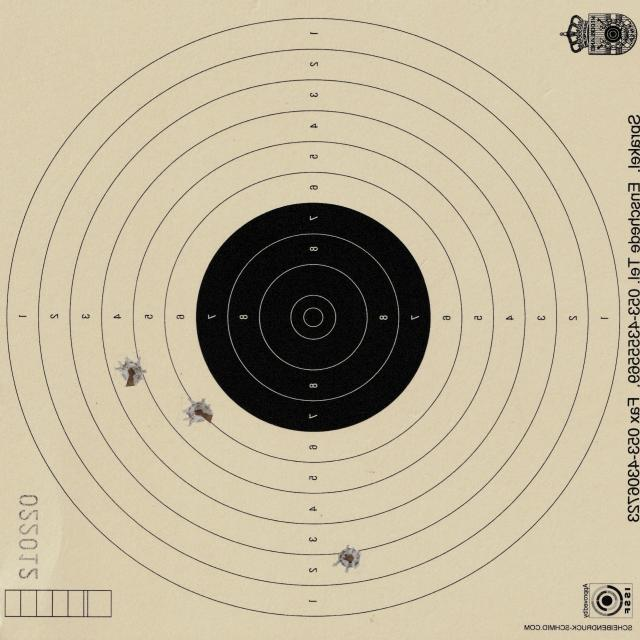3: (334, 546, 366, 575)
5: (117, 358, 141, 384)
6: (183, 400, 213, 425)
Target: (5, 16, 622, 618)
black_contour: (195, 202, 433, 433)
